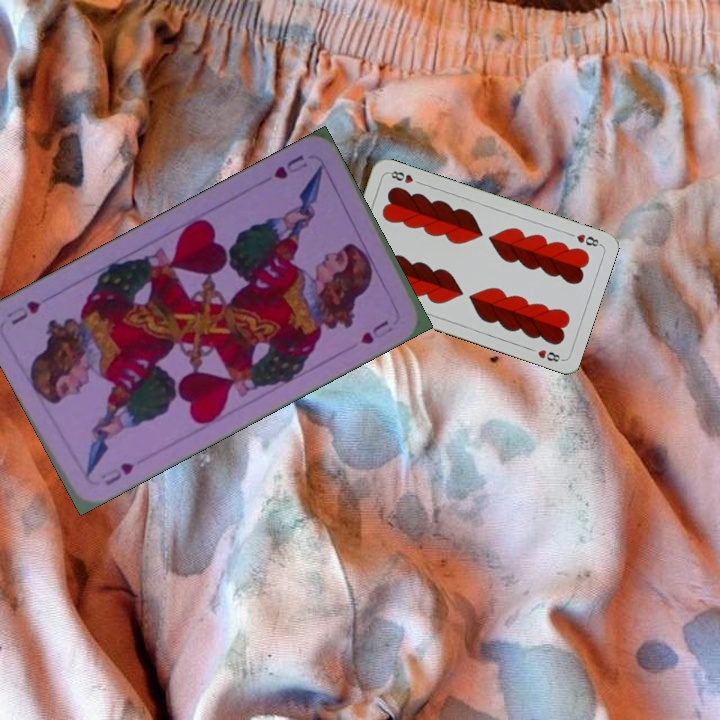H8: (572, 230, 603, 249)
HU: (270, 150, 311, 182), (96, 458, 137, 489)
